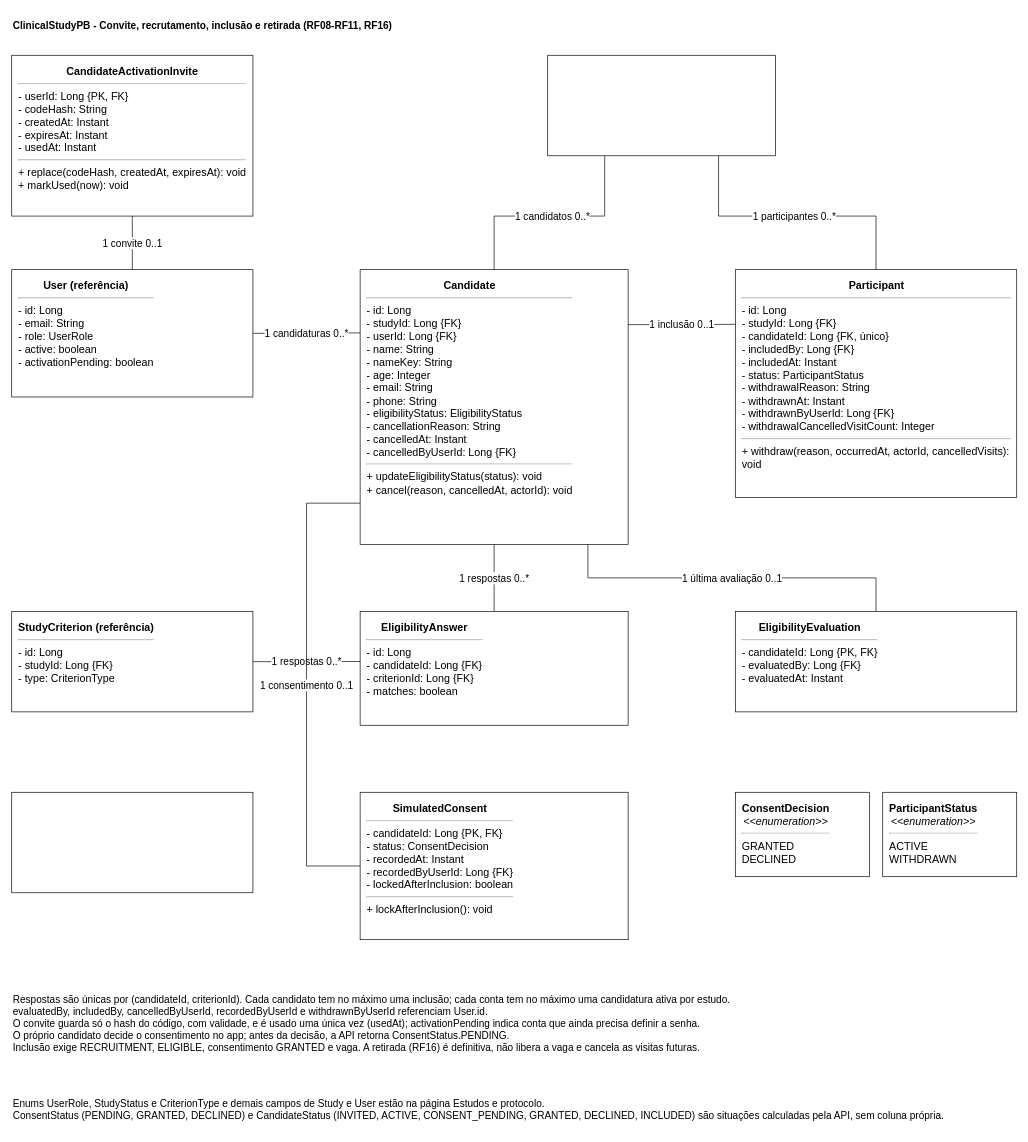
Some shapes in this 1028 by 1142 pixel diagram are drawn without their labels. The shapes that lost their labels are listed below. From the top down, each one's box as (x1, y1, x2, y2) in pixels, then its label:
(547, 55, 776, 156): Study (referência) - id: Long - participantLimit: Integer - status: StudyStatus
(11, 792, 253, 893): EligibilityStatus <<enumeration>> PENDING ELIGIBLE INELIGIBLE
